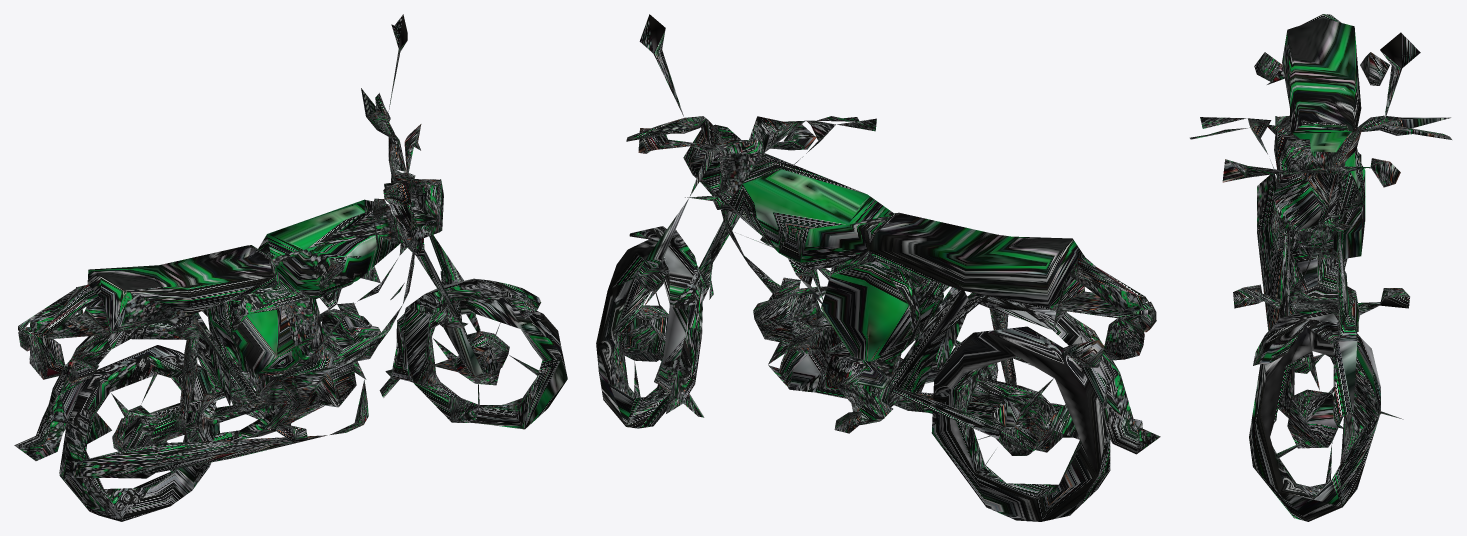
The model's file is simson-motorcycle.lod.glb.
3 views of the same model, side by side, from view 1: azimuth 30°, elevation 25°; view 2: azimuth 150°, elevation 25°; view 3: azimuth 270°, elevation 25° (orthographic). The views are drawn at different scales.
Parts seen in each view (by area): view 1: tripo_node_0e38afbf-0cdb-45e6-8c9e-c2b7fc33669b; view 2: tripo_node_0e38afbf-0cdb-45e6-8c9e-c2b7fc33669b; view 3: tripo_node_0e38afbf-0cdb-45e6-8c9e-c2b7fc33669b.
Part boxes in pixels (x1,y1,x2,y2): tripo_node_0e38afbf-0cdb-45e6-8c9e-c2b7fc33669b: (14, 14, 567, 521); tripo_node_0e38afbf-0cdb-45e6-8c9e-c2b7fc33669b: (596, 14, 1160, 521); tripo_node_0e38afbf-0cdb-45e6-8c9e-c2b7fc33669b: (1190, 14, 1451, 521).
Bounding box in the file's own units: 2 × 1.49 × 0.7835.
1 material, 1 textured.
